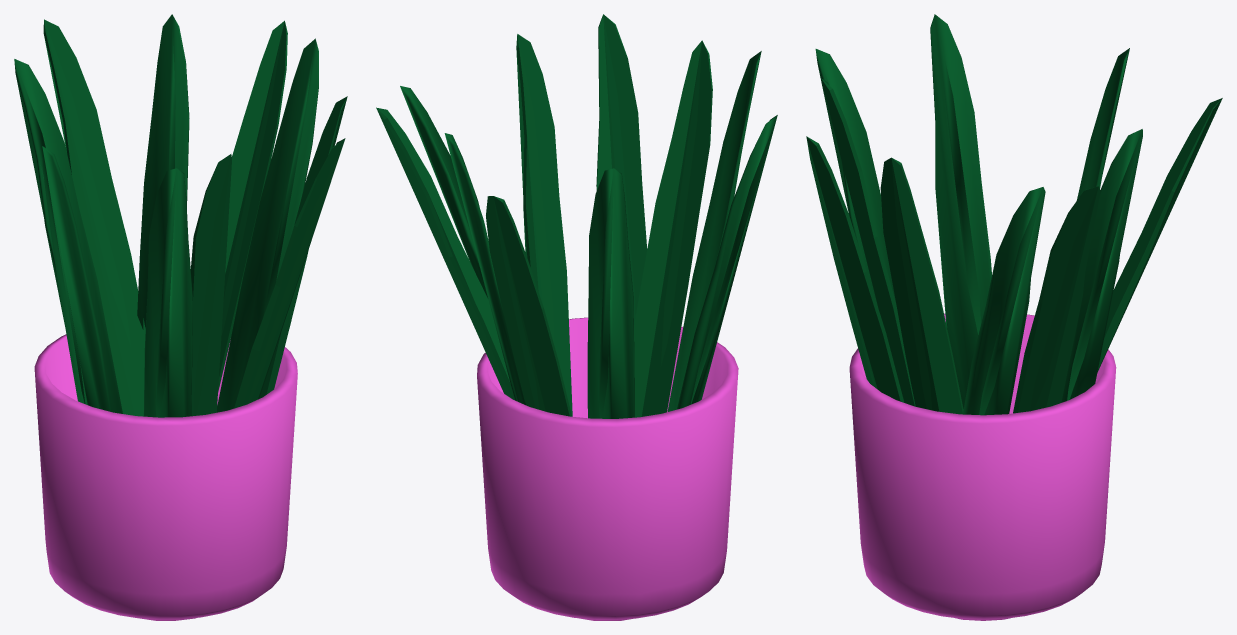
The model's file is SM_Aloe_low2.fbx.
3 views of the same model, side by side, from view 1: azimuth 30°, elevation 25°; view 2: azimuth 150°, elevation 25°; view 3: azimuth 270°, elevation 25° (orthographic).
Parts seen in each view (by area): view 1: Flower_Pot.low, Leave_straight.008, Leave_straight.005, Leave_straight.006, Leave_straight.009, Leave_straight.001, Leave_straight.004, Leave_straight.003, Leave_straight, Leave_straight.007, Leave_straight.002; view 2: Flower_Pot.low, Leave_straight.001, Leave_straight, Leave_straight.002, Leave_straight.008, Leave_straight.007, Leave_straight.004, Leave_straight.006, Leave_straight.009, Leave_straight.003, Leave_straight.005; view 3: Flower_Pot.low, Leave_straight.004, Leave_straight.002, Leave_straight.005, Leave_straight.009, Leave_straight.003, Leave_straight.007, Leave_straight.001, Leave_straight.008, Leave_straight.006, Leave_straight.
Boxes of the visible parts, bbox=[...] form: Flower_Pot.low: bbox=[34, 334, 297, 620]; Leave_straight.008: bbox=[43, 19, 145, 416]; Leave_straight.005: bbox=[217, 38, 318, 412]; Leave_straight.006: bbox=[143, 168, 192, 417]; Leave_straight.009: bbox=[218, 20, 287, 392]; Leave_straight.001: bbox=[190, 154, 231, 416]; Leave_straight.004: bbox=[42, 146, 111, 411]; Leave_straight.003: bbox=[137, 14, 189, 329]; Leave_straight: bbox=[14, 59, 122, 413]; Leave_straight.007: bbox=[234, 138, 345, 408]; Leave_straight.002: bbox=[259, 96, 347, 398]; Flower_Pot.low: bbox=[477, 317, 738, 620]; Leave_straight.001: bbox=[634, 40, 712, 417]; Leave_straight: bbox=[587, 168, 634, 418]; Leave_straight.002: bbox=[516, 34, 572, 416]; Leave_straight.008: bbox=[486, 196, 571, 416]; Leave_straight.007: bbox=[596, 14, 647, 324]; Leave_straight.004: bbox=[677, 115, 777, 409]; Leave_straight.006: bbox=[667, 51, 761, 411]; Leave_straight.009: bbox=[376, 107, 514, 400]; Leave_straight.003: bbox=[444, 133, 526, 405]; Leave_straight.005: bbox=[400, 86, 487, 297]; Flower_Pot.low: bbox=[849, 313, 1116, 620]; Leave_straight.004: bbox=[930, 14, 991, 408]; Leave_straight.002: bbox=[880, 157, 963, 414]; Leave_straight.005: bbox=[963, 187, 1045, 415]; Leave_straight.009: bbox=[1013, 186, 1100, 413]; Leave_straight.003: bbox=[1061, 129, 1142, 402]; Leave_straight.007: bbox=[806, 136, 904, 402]; Leave_straight.001: bbox=[821, 78, 915, 406]; Leave_straight.008: bbox=[1097, 98, 1222, 372]; Leave_straight.006: bbox=[815, 49, 895, 306]; Leave_straight: bbox=[1076, 48, 1129, 200].
Bounding box in the file's own units: 166 × 244 × 181.
